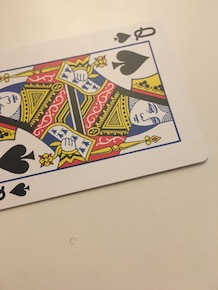QueenOfSpades: (1, 19, 209, 216)
